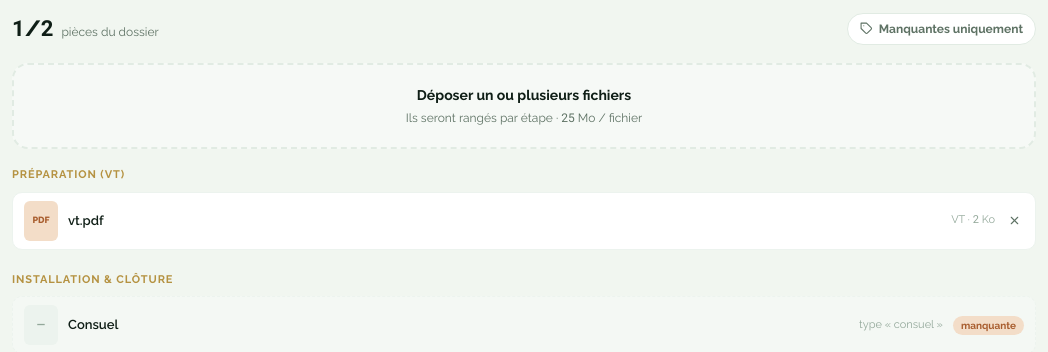
Test case: DocumentsHub › le filtre « manquantes » masque les pièces présentes
Click the button "Manquantes uniquement".
click(941, 28)  # box [847, 12, 1036, 44]
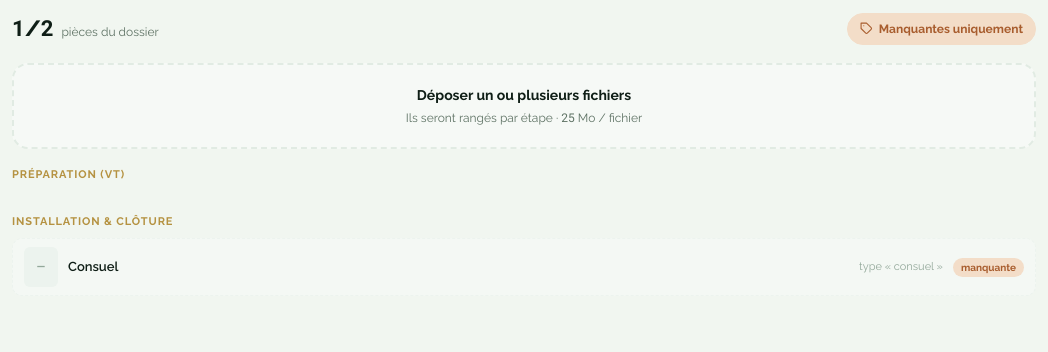
Now the button "vt.pdf" is gone
